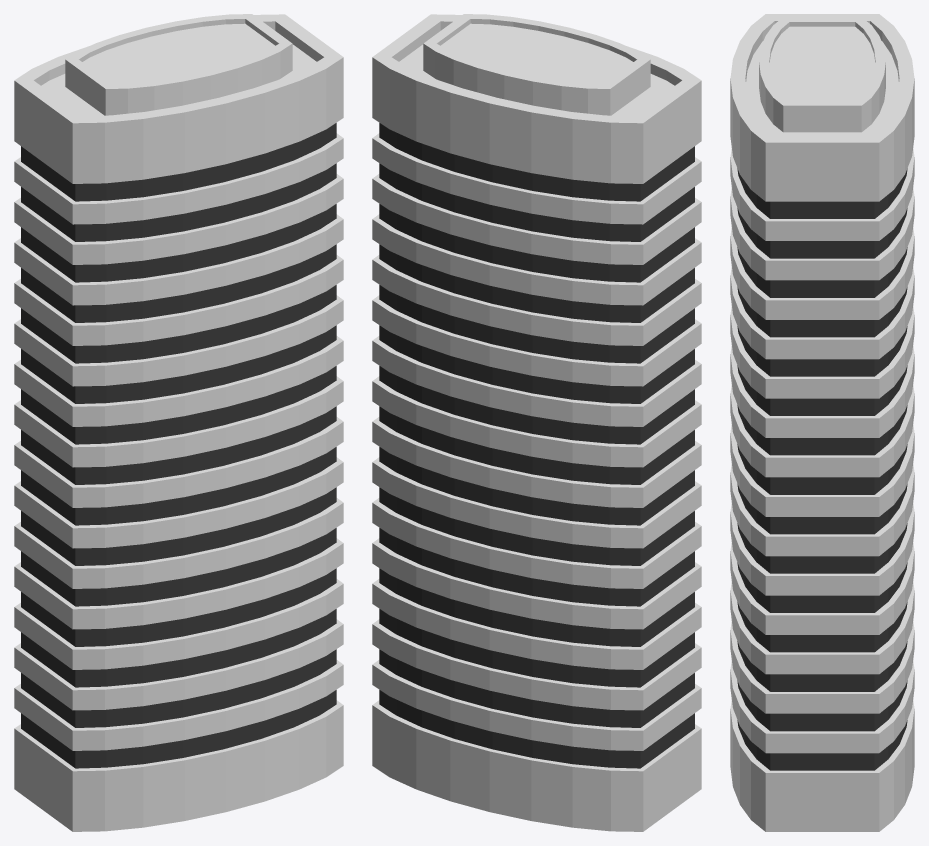
Rendered from SPW_Urban_Bldg_06.gltf.
3 renders of one model, left to right at view 1: azimuth 30°, elevation 25°; view 2: azimuth 150°, elevation 25°; view 3: azimuth 270°, elevation 25°, orthographic. The views are drawn at different scales.
Visible parts, largest first — view 1: SPW_Urban_Bldg_06; view 2: SPW_Urban_Bldg_06; view 3: SPW_Urban_Bldg_06.
Boxes of the visible parts, bbox=[...] form: SPW_Urban_Bldg_06: bbox=[14, 14, 343, 831]; SPW_Urban_Bldg_06: bbox=[372, 14, 701, 831]; SPW_Urban_Bldg_06: bbox=[730, 14, 914, 831].
Bounding box in the file's own units: 551 × 1412 × 333.
Materials: 1 (1 with a texture image).
